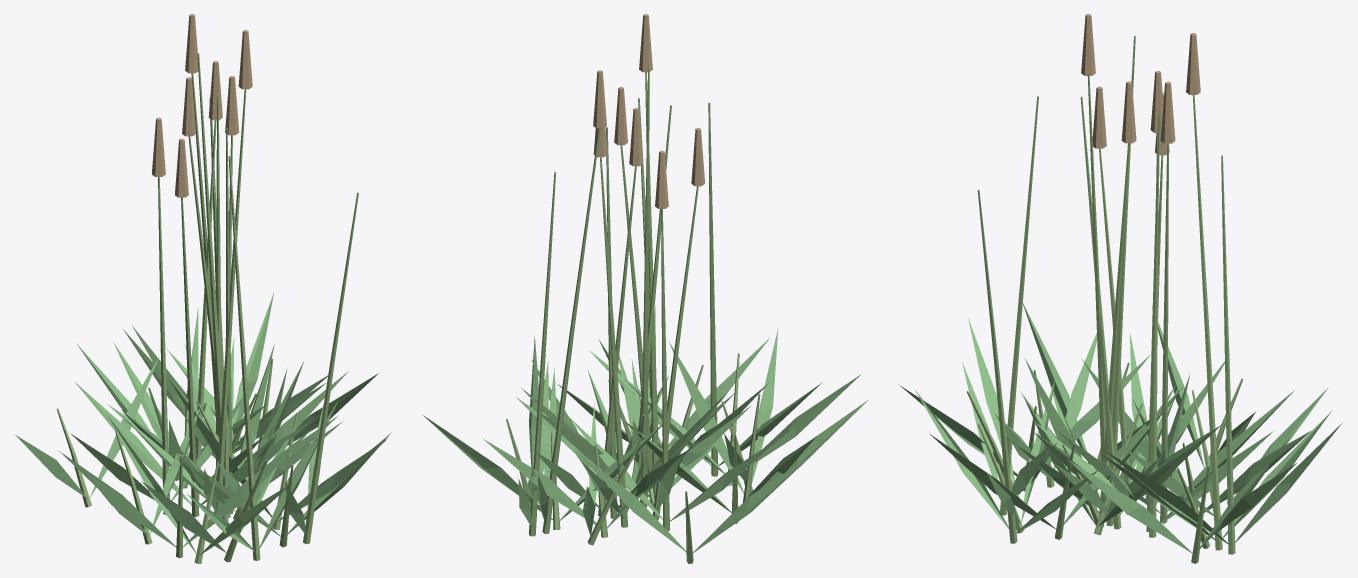
File: plant-reed-a.glb
The picture shows the model from 3 angles, left to right: view 1: azimuth 30°, elevation 25°; view 2: azimuth 150°, elevation 25°; view 3: azimuth 270°, elevation 25°; orthographic projection. The views are drawn at different scales.
Parts seen in each view (by area): view 1: plant-reed-a_full_stemGreen, plant-reed-a_cut_reedLeaf, plant-reed-a_full_reedLeaf, plant-reed-a_full_reedHead, plant-reed-a_cut_stemGreen; view 2: plant-reed-a_full_stemGreen, plant-reed-a_cut_reedLeaf, plant-reed-a_full_reedLeaf, plant-reed-a_full_reedHead, plant-reed-a_cut_stemGreen; view 3: plant-reed-a_full_stemGreen, plant-reed-a_cut_reedLeaf, plant-reed-a_full_reedLeaf, plant-reed-a_full_reedHead, plant-reed-a_cut_stemGreen.
Part boxes in pixels (x1,y1,x2,y2): plant-reed-a_full_stemGreen: [158, 53, 358, 560]; plant-reed-a_cut_reedLeaf: [15, 293, 391, 554]; plant-reed-a_full_reedLeaf: [70, 325, 348, 551]; plant-reed-a_full_reedHead: [152, 14, 252, 197]; plant-reed-a_cut_stemGreen: [56, 358, 297, 563]; plant-reed-a_full_stemGreen: [529, 68, 718, 536]; plant-reed-a_cut_reedLeaf: [423, 305, 867, 552]; plant-reed-a_full_reedLeaf: [516, 338, 822, 527]; plant-reed-a_full_reedHead: [593, 14, 705, 208]; plant-reed-a_cut_stemGreen: [506, 353, 760, 563]; plant-reed-a_full_stemGreen: [977, 36, 1235, 554]; plant-reed-a_cut_reedLeaf: [898, 303, 1328, 553]; plant-reed-a_full_reedLeaf: [915, 331, 1342, 543]; plant-reed-a_full_reedHead: [1081, 14, 1200, 155]; plant-reed-a_cut_stemGreen: [966, 362, 1243, 563].
Size of the model in its own units: 1.61 by 2.3 by 1.81.
